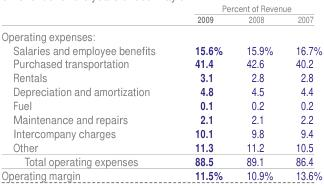table: (0, 1, 321, 182)
table column: (0, 1, 174, 182), (174, 1, 233, 182), (233, 1, 283, 182), (283, 1, 321, 182)
table column header: (0, 1, 321, 26)
table projected row header: (0, 26, 321, 42)
table row: (0, 26, 321, 42), (0, 167, 321, 182), (0, 12, 321, 26), (0, 42, 321, 56), (0, 56, 321, 70), (0, 83, 321, 97), (0, 97, 321, 111), (0, 111, 321, 125), (0, 125, 321, 139), (0, 139, 321, 153), (0, 153, 321, 167), (0, 70, 321, 83), (0, 1, 321, 12)
table spanning cell: (174, 1, 321, 12)
